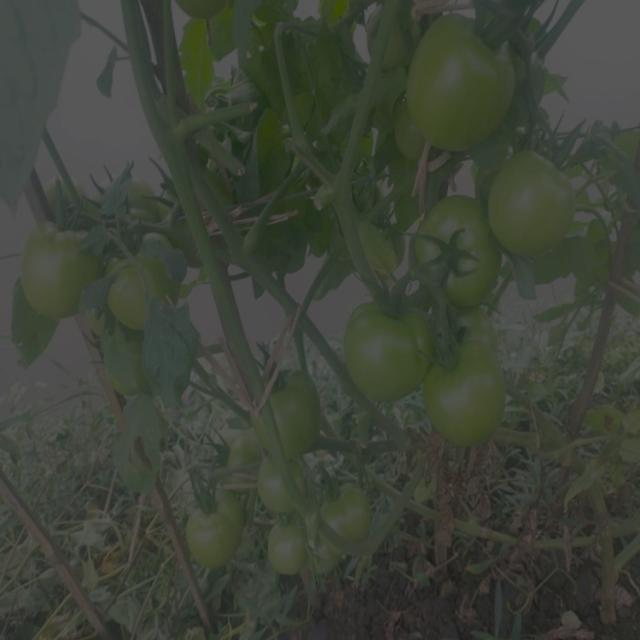tomato: (411, 21, 512, 143), (416, 191, 507, 311), (426, 322, 505, 446), (491, 147, 576, 255), (346, 299, 431, 404), (20, 218, 107, 312), (262, 365, 329, 454), (180, 491, 243, 577), (111, 248, 167, 334), (324, 469, 375, 542), (252, 449, 303, 515), (266, 517, 312, 572), (214, 430, 256, 468)
